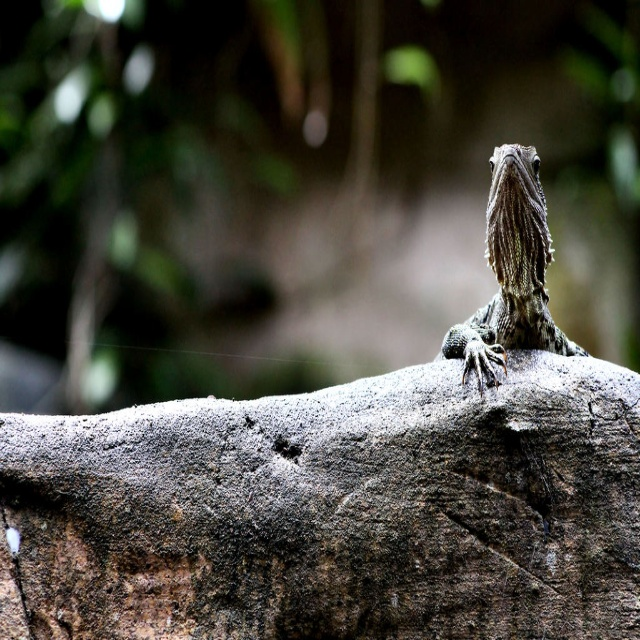Lizard: (446, 172, 604, 416)
